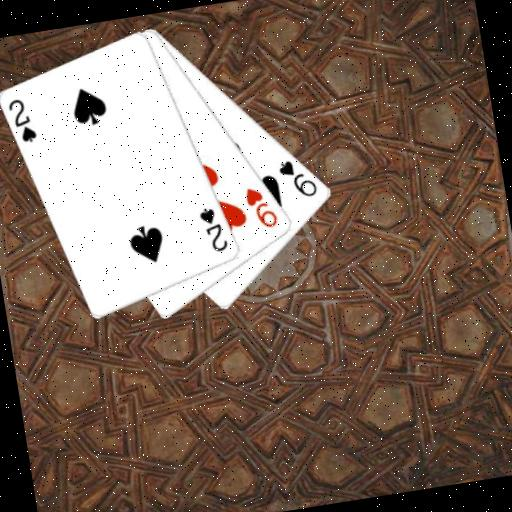2S: (195, 202, 231, 256), (5, 93, 40, 147)
9H: (241, 181, 281, 233)
9S: (274, 153, 320, 203)
